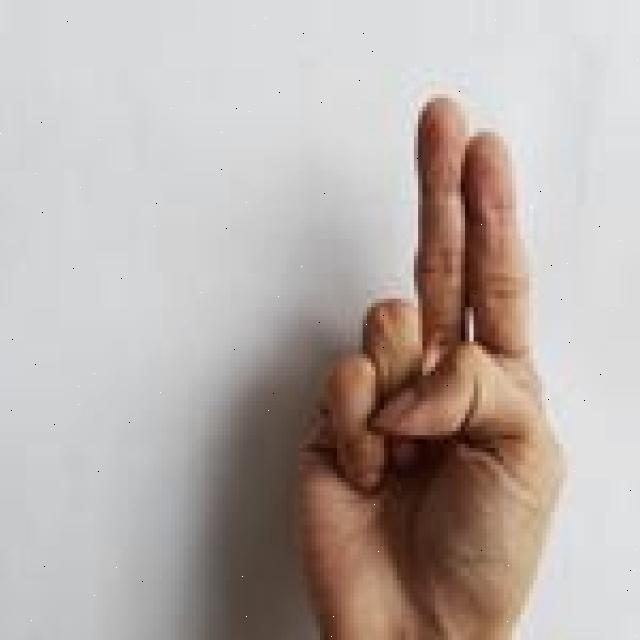U: (294, 88, 580, 640)
